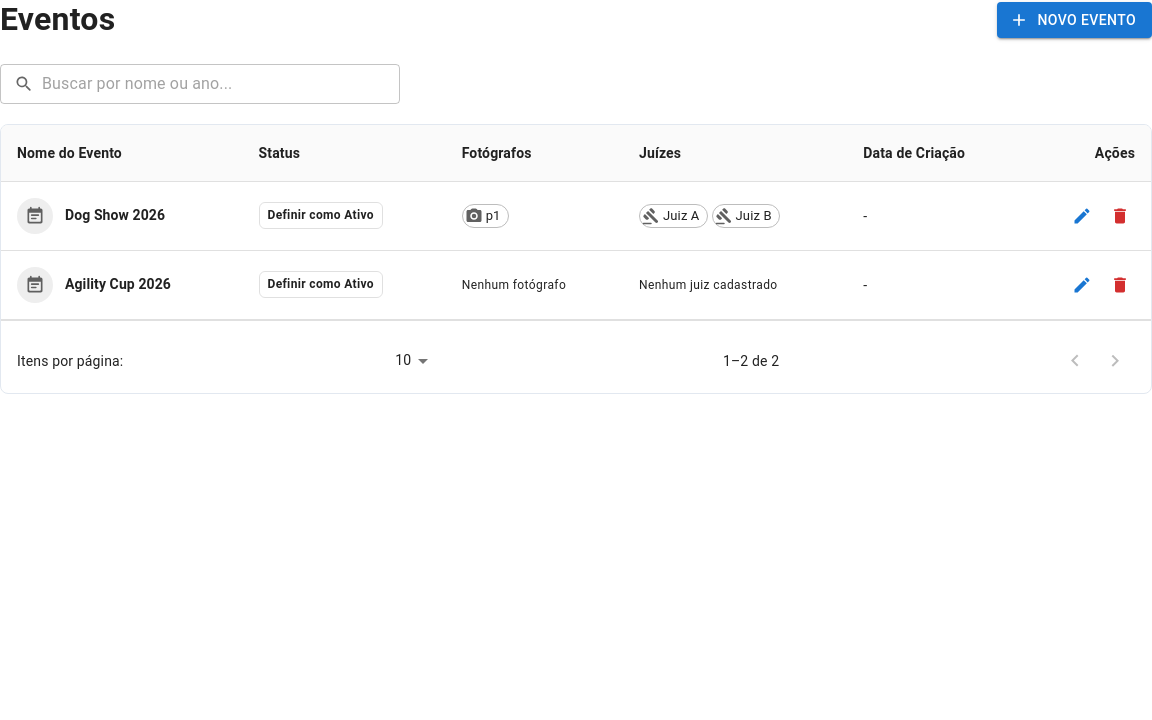
Test case: SeasonsPage › opens delete confirmation modal with cascade entities warning
This screenshot has width=1152, height=720.
Check: the heading "Dog Show 2026" is shown, box top-left (65, 204), bottom-right (165, 226)
Click the button named "excluir" in the row of "Dog Show 2026" at (1120, 216), box top-left (1105, 200), bottom-right (1135, 230)
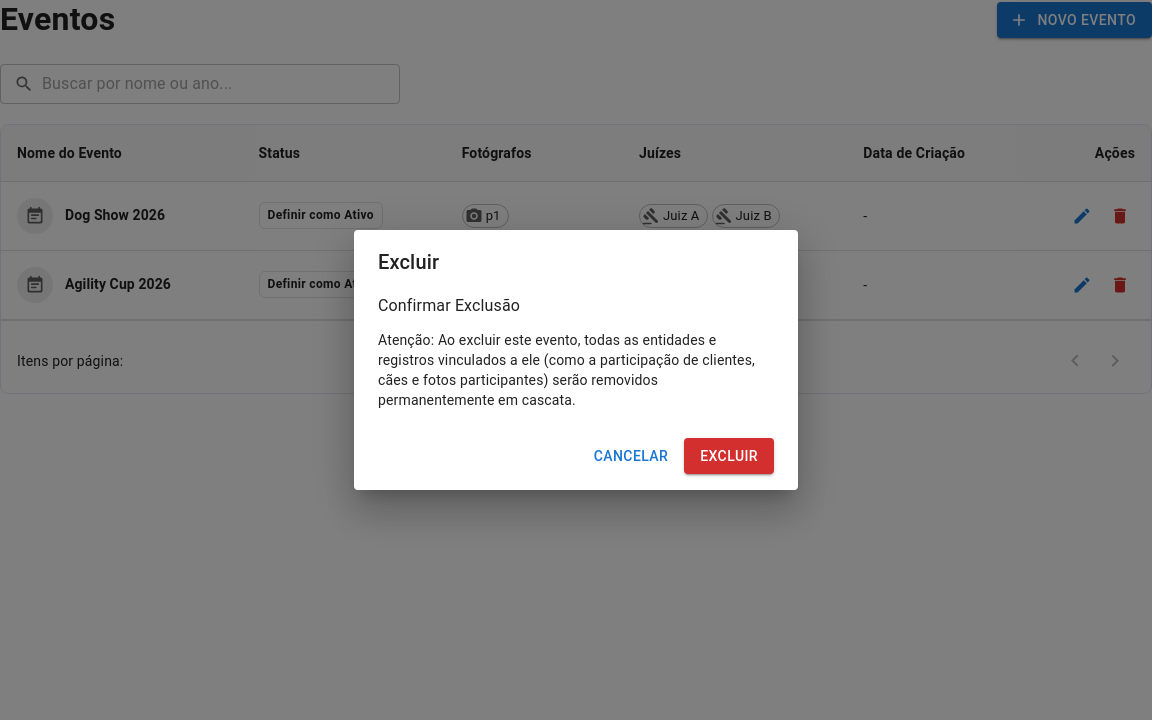
Check: the text "Confirmar Exclusão" is shown, box top-left (378, 296), bottom-right (520, 315)
Check: the text "removidos permanentemente em cascata" is shown, box top-left (378, 332), bottom-right (755, 408)
